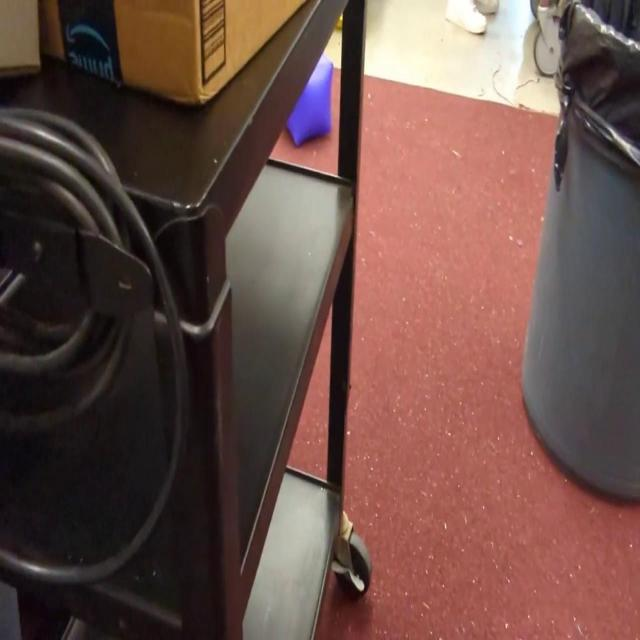frc_cube: (284, 44, 333, 146)
